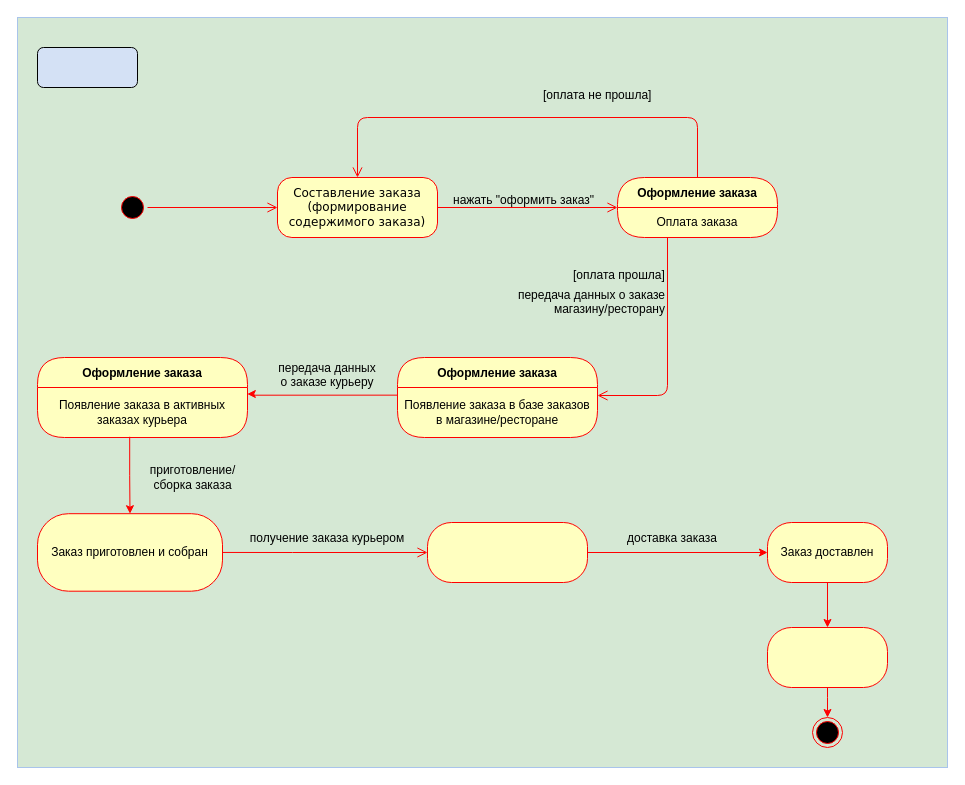
This 965x785 diagram has some shape labels left out. Each missing label, with the centre of its shape:
state diagram: the point at 87,67
Заказ архивирован: the point at 827,657
Заказ получен курьером: the point at 507,552
